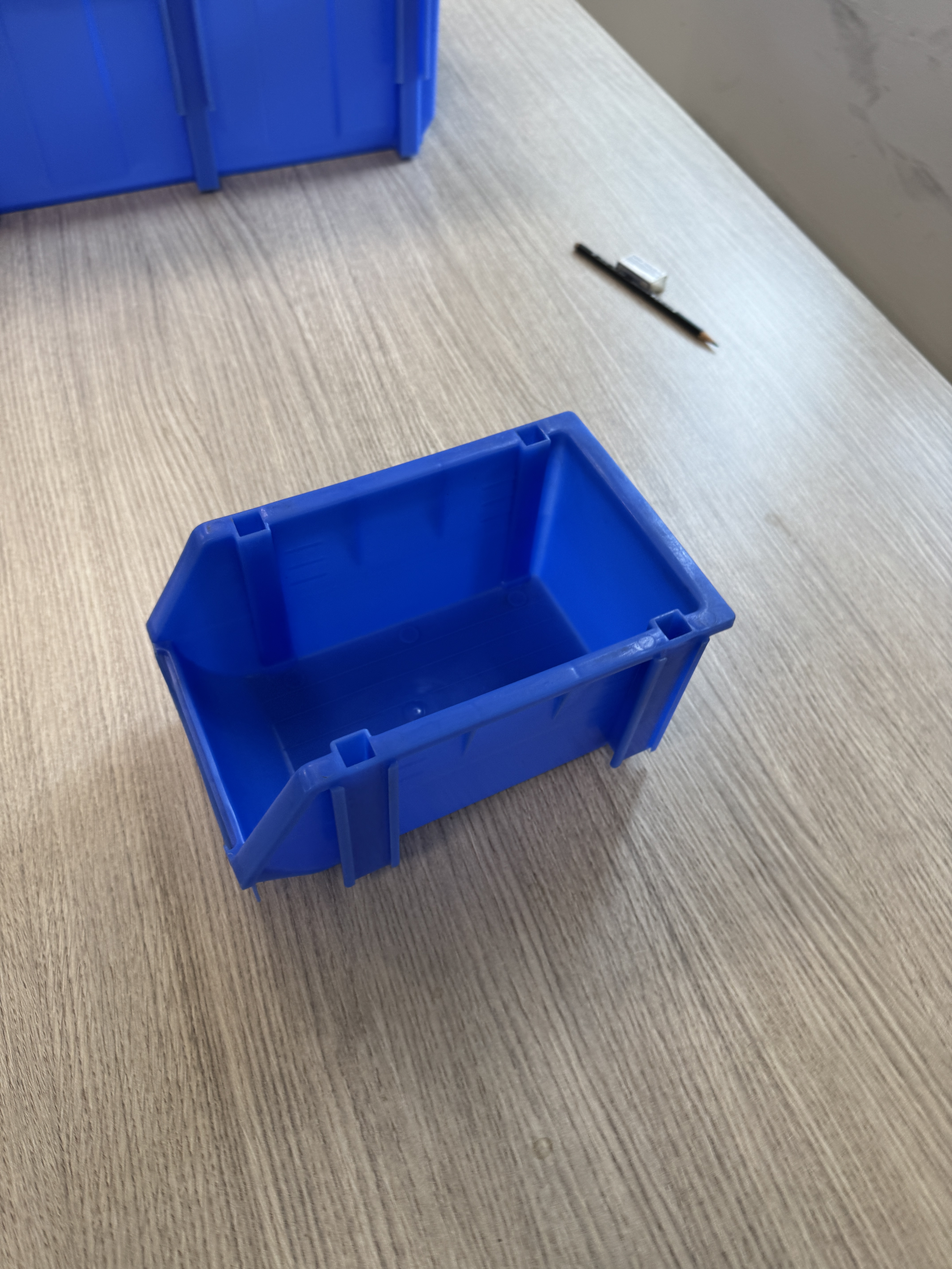Bin Boundary: (139, 384, 717, 842)
